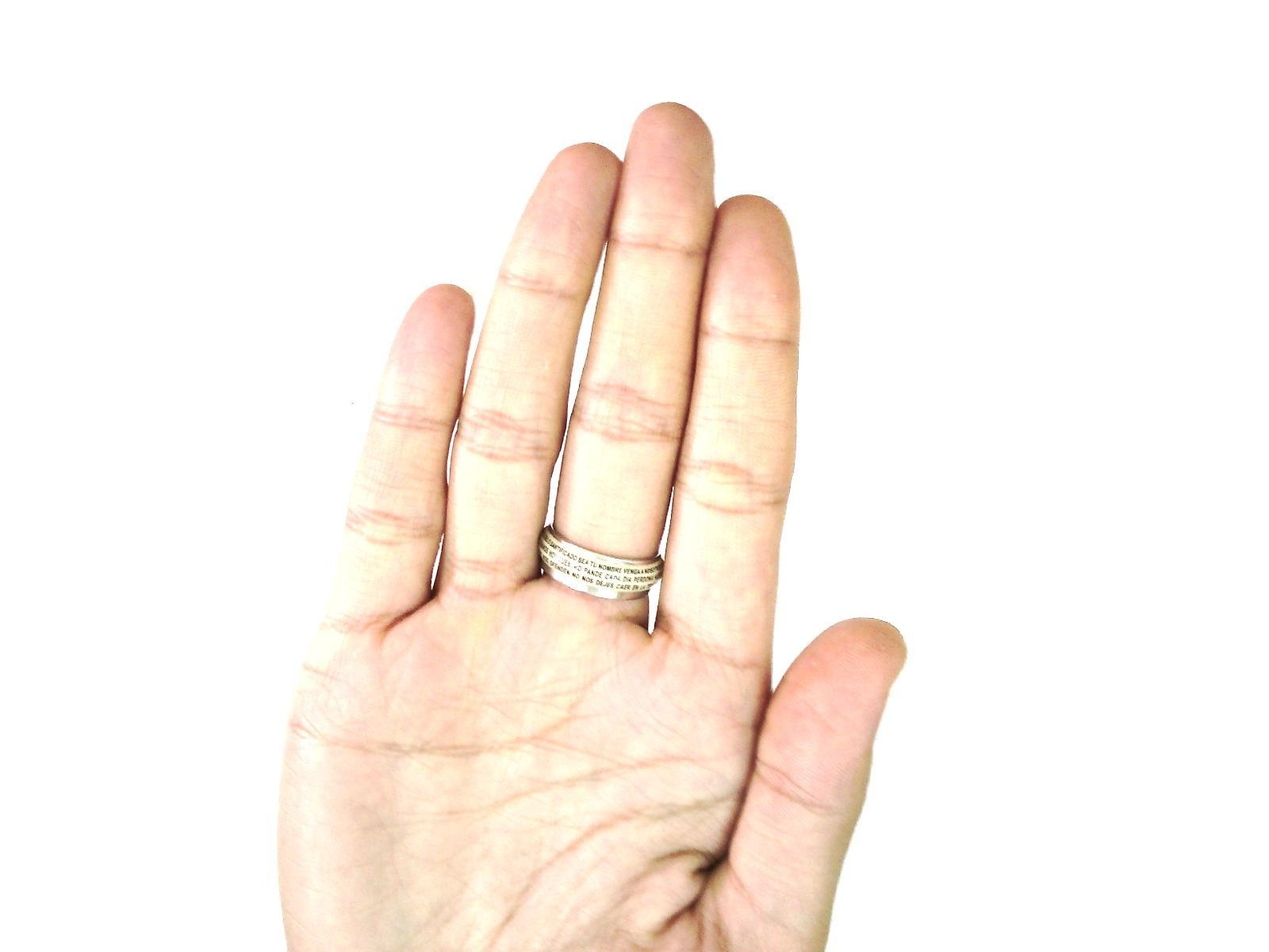open_palm: (273, 101, 910, 951)
